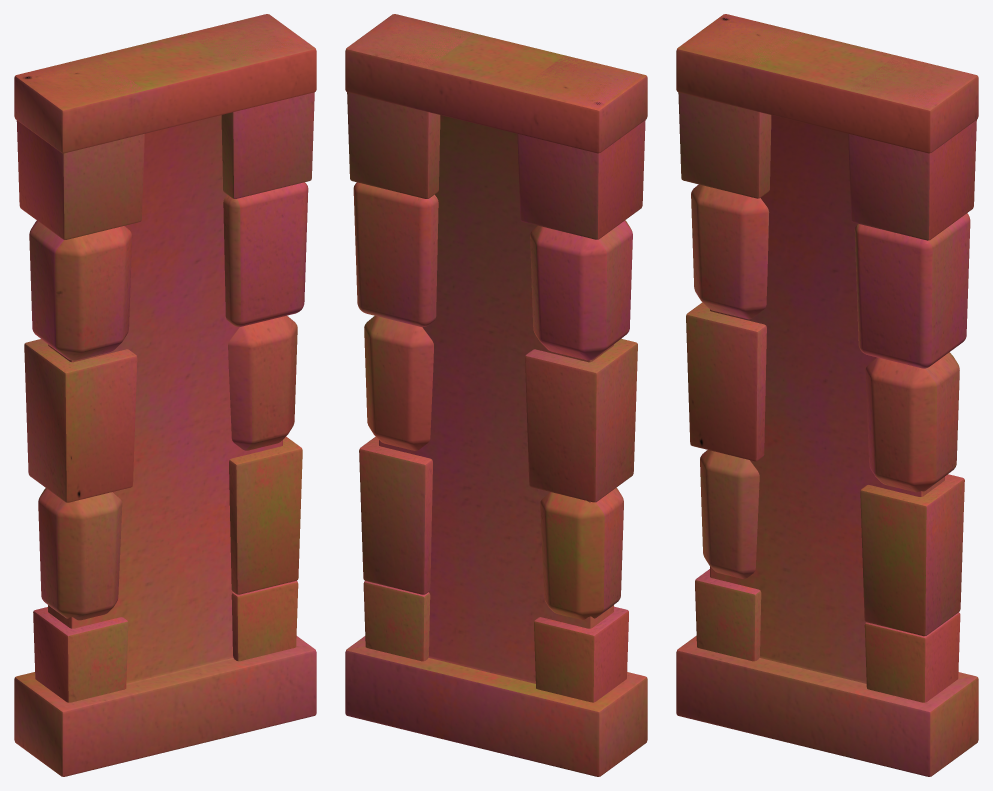
File: TEMPLE_WALL_1_004.obj
3 renders of one model, left to right at view 1: azimuth 30°, elevation 25°; view 2: azimuth 150°, elevation 25°; view 3: azimuth 330°, elevation 25°, orthographic.
Parts seen in each view (by area): view 1: TEMPLE_WALL_1_004; view 2: TEMPLE_WALL_1_004; view 3: TEMPLE_WALL_1_004.
Boxes of the visible parts, bbox=[...] form: TEMPLE_WALL_1_004: bbox=[14, 14, 316, 776]; TEMPLE_WALL_1_004: bbox=[345, 14, 647, 776]; TEMPLE_WALL_1_004: bbox=[676, 14, 978, 776].
Bounding box in the file's own units: 1.2 × 3 × 0.4.
